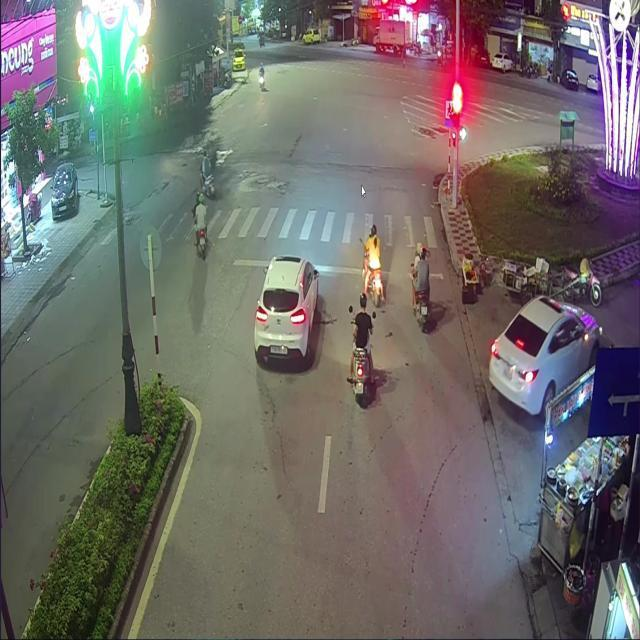car: (488, 295, 601, 415), (251, 257, 318, 374)
motobike: (352, 350, 366, 405), (417, 295, 430, 338), (367, 273, 382, 307), (195, 228, 205, 258)
red_light: (452, 97, 459, 127)
stop_line: (231, 258, 442, 280)
